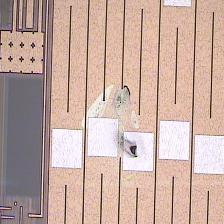COATING BAD: (78, 82, 160, 166)
